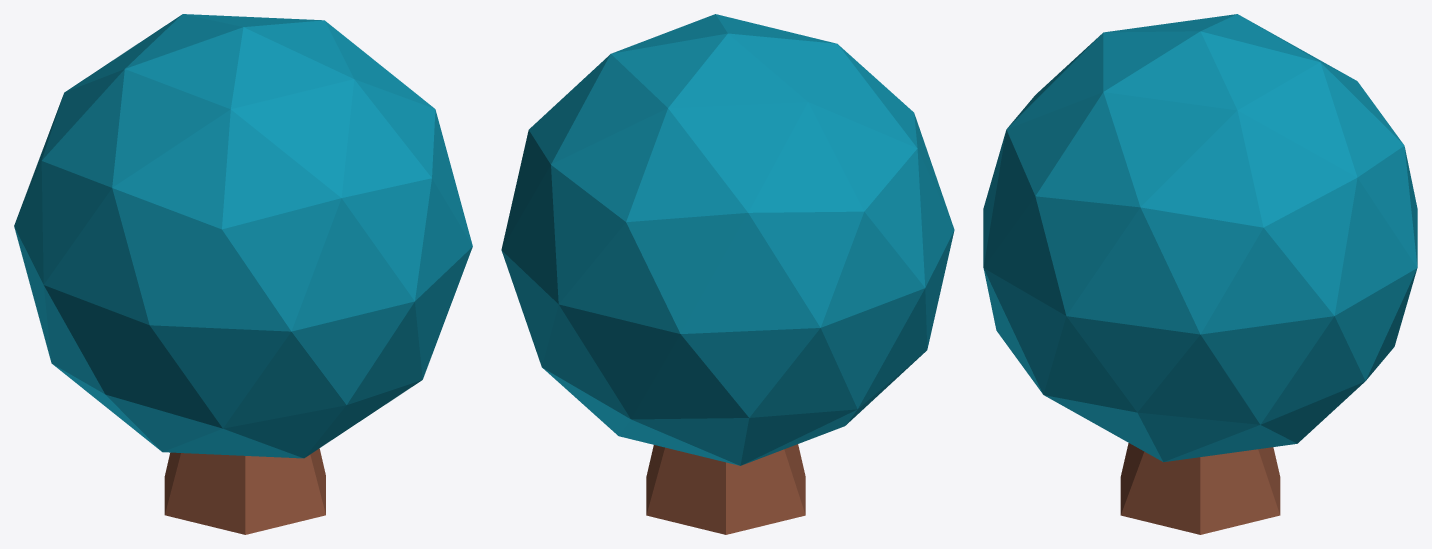
Rendered from Bush_2_summer_blue.fbx.
3 views of the same model, side by side, from view 1: azimuth 30°, elevation 25°; view 2: azimuth 150°, elevation 25°; view 3: azimuth 270°, elevation 25° (orthographic).
Parts seen in each view (by area): view 1: Bush_2_summer_blue; view 2: Bush_2_summer_blue; view 3: Bush_2_summer_blue.
Part boxes in pixels (bbox=[...]): Bush_2_summer_blue: bbox=[14, 14, 472, 534]; Bush_2_summer_blue: bbox=[501, 14, 954, 534]; Bush_2_summer_blue: bbox=[983, 14, 1417, 534].
Size of the model in its own units: 35.19 by 39.46 by 33.47.
